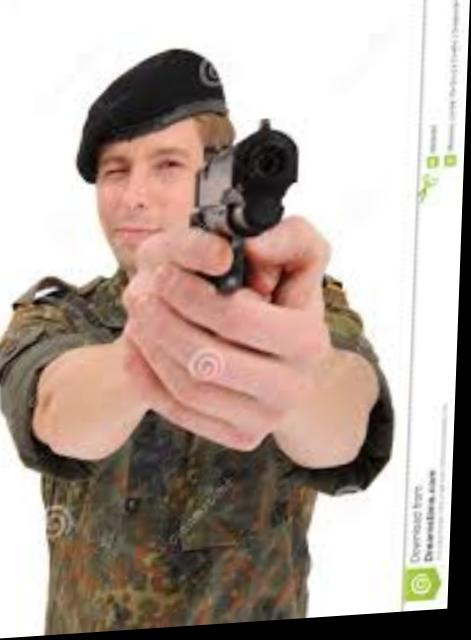other: (15, 33, 412, 638)
